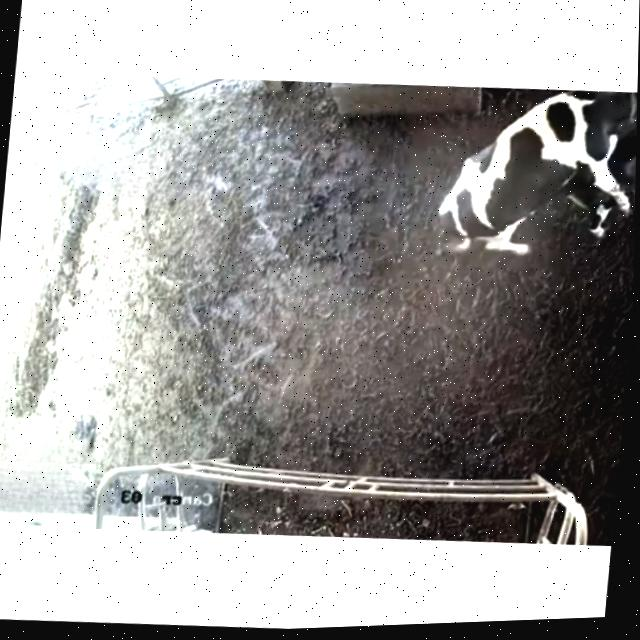ride: (418, 76, 638, 283)
